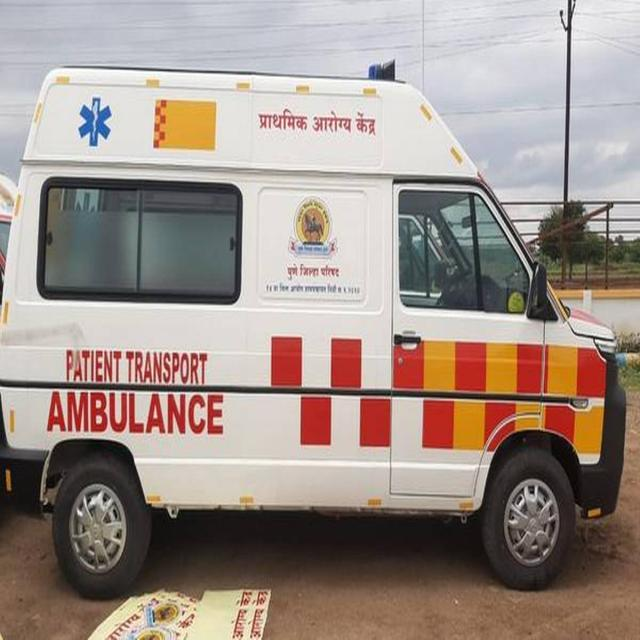emergency-vehicle: (2, 65, 627, 593)
